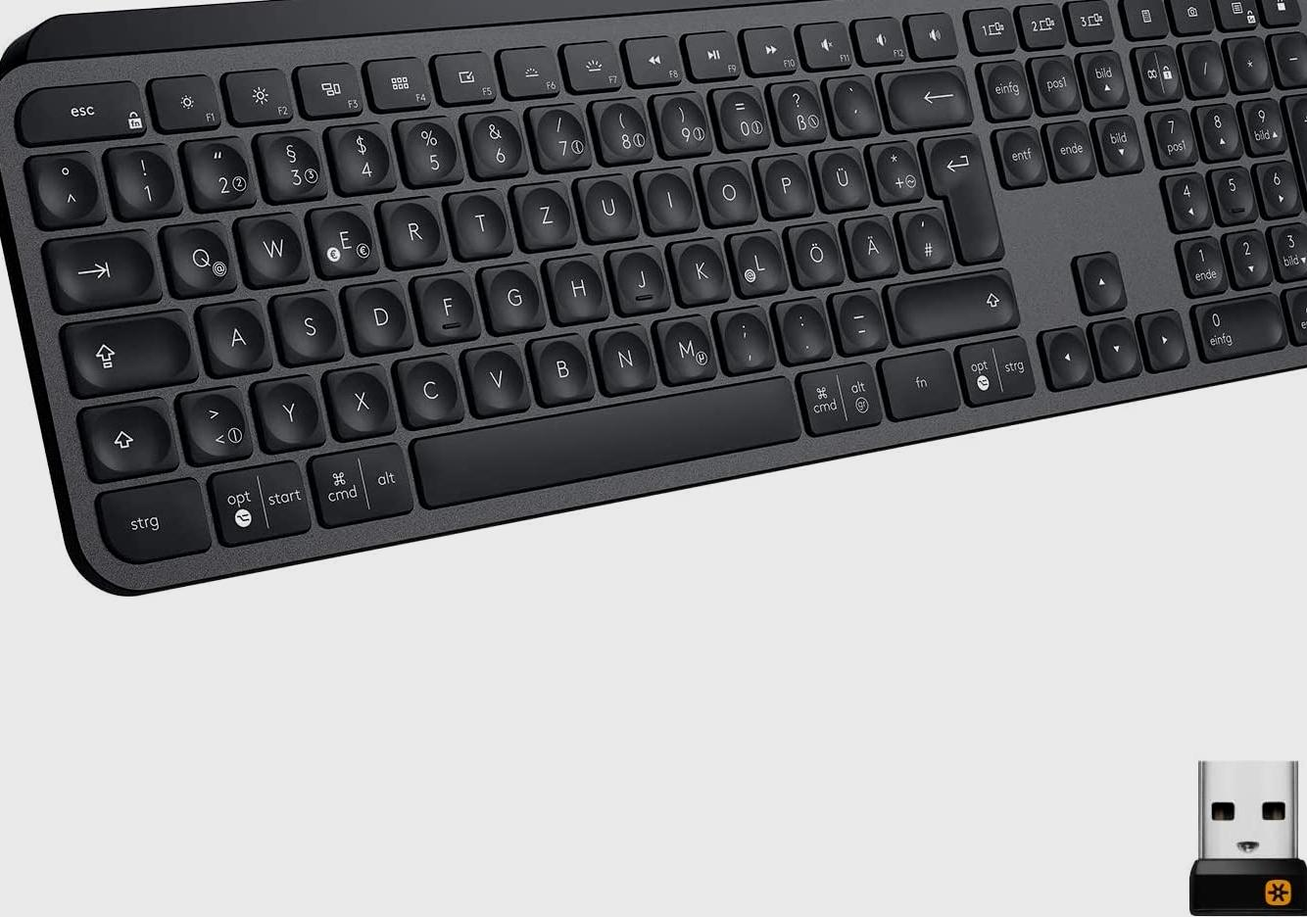0: (708, 80, 769, 146)
1: (104, 140, 178, 213)
2: (180, 132, 255, 206)
3: (254, 125, 327, 199)
4: (325, 118, 390, 188)
5: (394, 112, 460, 181)
6: (461, 106, 525, 172)
7: (527, 100, 590, 167)
8: (590, 93, 653, 161)
9: (650, 87, 711, 153)
a: (196, 295, 269, 368)
accent: (821, 70, 877, 131)
ae: (839, 209, 896, 274)
alt-left: (209, 459, 311, 549)
altgr-right: (799, 360, 885, 429)
b: (525, 330, 593, 400)
c: (392, 351, 461, 422)
caret: (25, 149, 100, 221)
comma: (711, 302, 771, 368)
d: (342, 276, 411, 350)
del: (878, 62, 968, 126)
e: (305, 201, 378, 274)
enter: (917, 127, 998, 255)
f: (411, 267, 479, 340)
g: (477, 259, 544, 329)
h: (542, 250, 606, 319)
hash: (893, 203, 950, 267)
i: (636, 163, 695, 228)
j: (605, 241, 668, 311)
k: (666, 233, 728, 301)
keyboard: (1, 1, 1307, 605)
l: (725, 225, 784, 293)
less: (175, 382, 251, 459)
m: (651, 311, 715, 380)
minus: (826, 285, 885, 348)
n: (590, 319, 655, 389)
o: (694, 156, 754, 222)
oe: (783, 217, 842, 284)
p: (755, 149, 812, 214)
plus: (864, 134, 923, 200)
point: (770, 294, 828, 359)
q: (159, 217, 236, 293)
r: (377, 192, 444, 264)
s: (269, 286, 342, 359)
shift-left: (75, 399, 175, 475)
shift-lock: (57, 310, 194, 393)
shift-right: (885, 265, 1016, 339)
space: (408, 373, 797, 504)
ss: (766, 74, 826, 139)
strg-left: (92, 474, 212, 560)
strg-right: (957, 332, 1036, 402)
t: (445, 184, 510, 254)
tab: (42, 228, 157, 308)
u: (573, 169, 636, 238)
ue: (809, 142, 867, 207)
v: (460, 340, 529, 410)
w: (235, 208, 305, 280)
x: (323, 361, 394, 432)
y: (251, 371, 323, 445)
z: (510, 176, 575, 246)
